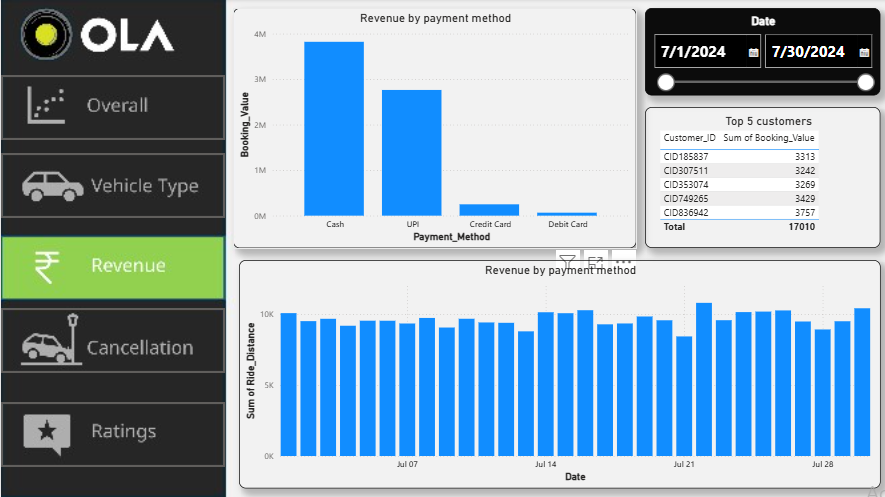

This screenshot's page, from the dashboard's own definition file:
{"tool":"powerbi","page":{"name":"Revenue","canvas":[1280,720],"ordinal":2},"visuals":[{"type":"actionButton","box":[0,445,322.6,93.6],"z":0},{"type":"actionButton","box":[0,580.3,322.6,93.6],"z":1000},{"type":"actionButton","box":[0,221.8,322.6,93.6],"z":2000},{"type":"actionButton","box":[0,109.4,322.6,93.6],"z":3000},{"type":"columnChart","title":"Revenue by payment method","fields":{"Category":["July.Payment_Method"],"Y":["Sum(July.Booking_Value)"]},"box":[334.3,13.4,581.2,346],"z":4000},{"type":"columnChart","title":"Revenue by payment method","fields":{"Y":["Sum(July.Ride_Distance)"],"Category":["July.Date"]},"box":[342.7,376.3,923.9,329.2],"z":5000},{"type":"slicer","title":"Date","fields":{"Values":["July.Date"]},"box":[927.2,13.4,339.3,126],"z":6000},{"type":"tableEx","title":"Top 5 customers","fields":{"Values":["July.Customer_ID","Sum(July.Booking_Value)"]},"box":[927.2,156.2,339.3,203.3],"z":7000}]}

Visuals, with their boxes in screenshot pixels (x1, y1, x2, y2), scaled from the page's 1280x720 canvas onto the 885x497 screenshot:
actionButton: locate(0, 307, 223, 372)
actionButton: locate(0, 401, 223, 465)
actionButton: locate(0, 153, 223, 218)
actionButton: locate(0, 76, 223, 140)
"Revenue by payment method" columnChart: locate(231, 9, 633, 248)
"Revenue by payment method" columnChart: locate(237, 260, 876, 487)
"Date" slicer: locate(641, 9, 876, 96)
"Top 5 customers" tableEx: locate(641, 108, 876, 248)
